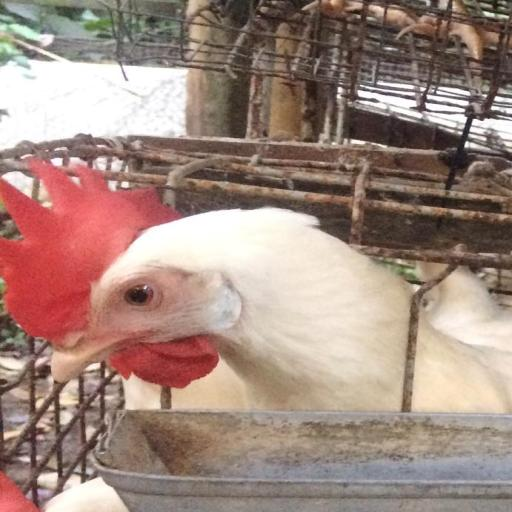healthy: (0, 150, 246, 396)
